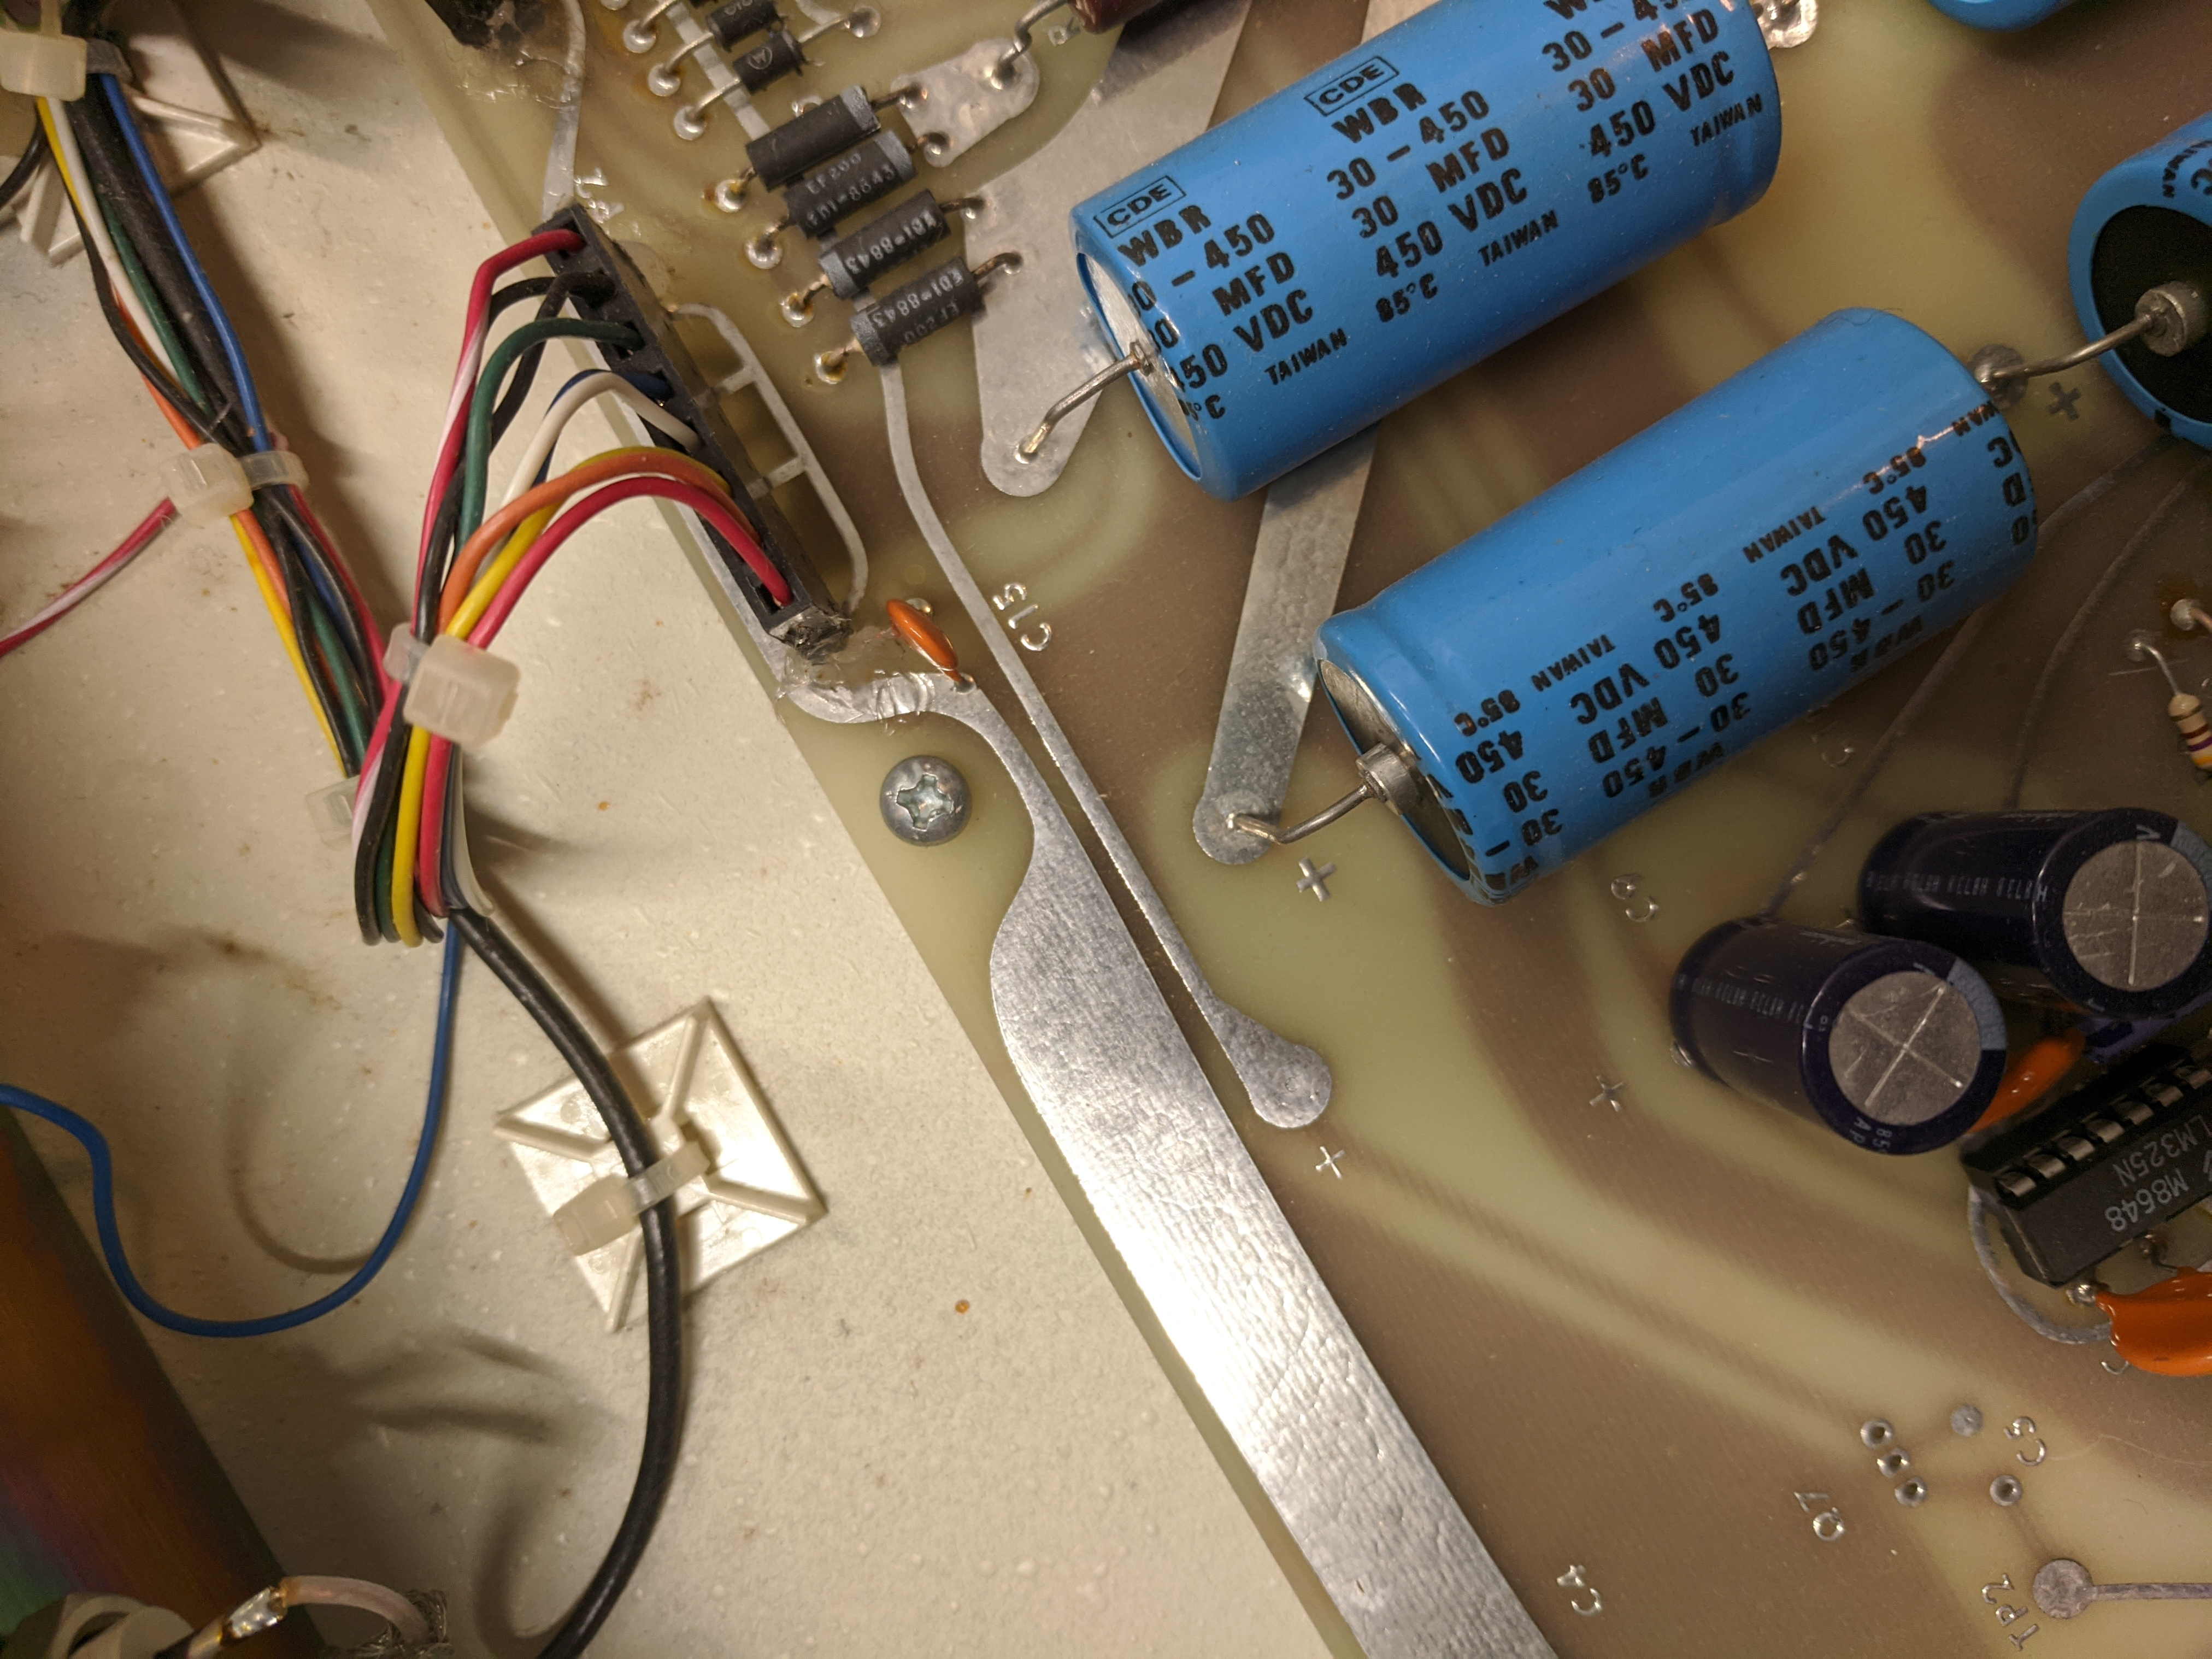cross_recessed_screw: (878, 744, 982, 843)
